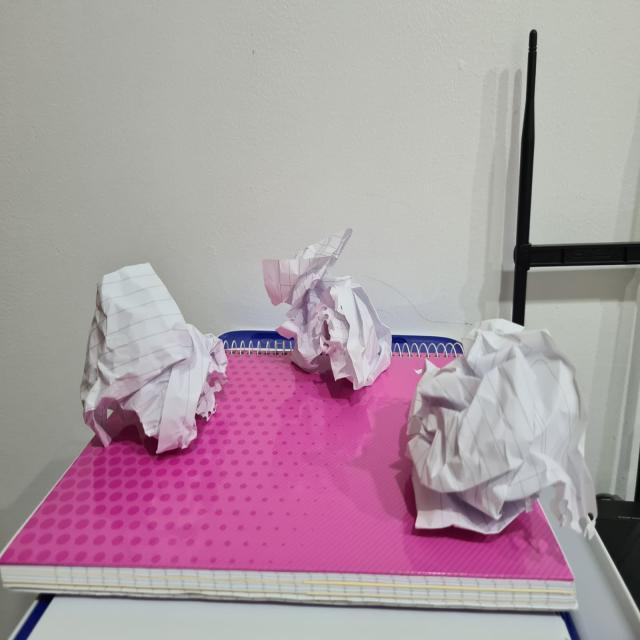Paper: (405, 318, 597, 541), (82, 262, 225, 456), (263, 220, 392, 392)
